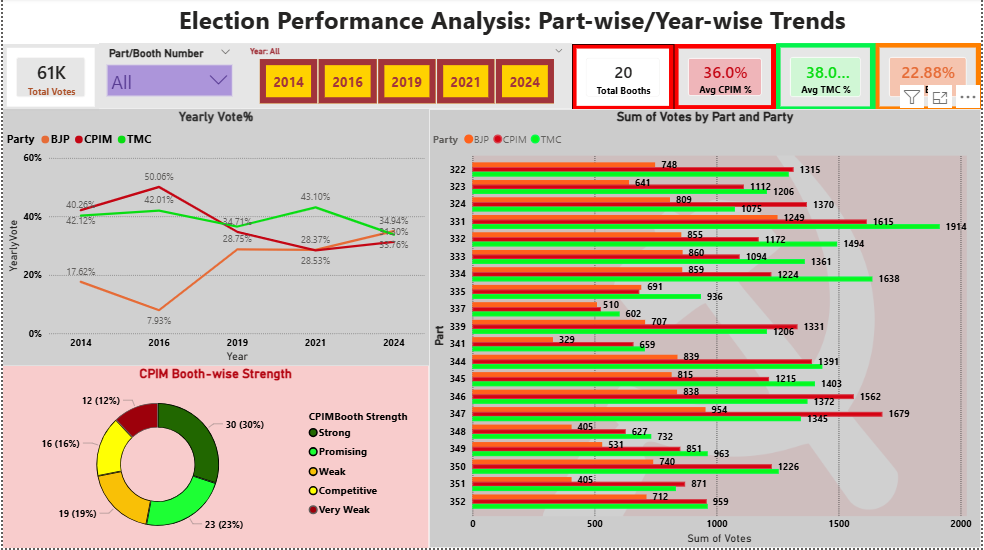

Layout of this report page (visuals, bound fields, positions):
{"tool":"powerbi","page":{"name":"Page 1","canvas":[1280,720],"ordinal":0},"visuals":[{"type":"cardVisual","fields":{"Data":["Sheet1.Total Votes"]},"box":[0,60.2,125.7,87.7],"z":0},{"type":"slicer","fields":{"Values":["Sheet1.Part"]},"box":[125.7,58.9,184.6,86.4],"z":1000},{"type":"lineChart","title":"Yearly Vote%","fields":{"Category":["Sheet1.Year"],"Series":["Sheet1.Party"],"Y":["Sheet1.Yearly Vote %"]},"box":[0,145.3,557.7,336.4],"z":2000},{"type":"cardVisual","fields":{"Data":["Sheet1.Avg CPIM %"]},"box":[878.4,60.2,133.5,86.4],"z":3000},{"type":"slicer","fields":{"Values":["Sheet1.Year"]},"box":[310.3,58.9,434.6,86.4],"z":4000},{"type":"cardVisual","fields":{"Data":["Sheet1.Avg BJP %"]},"box":[1141.5,58.9,138.8,89],"z":5000},{"type":"cardVisual","fields":{"Data":["Sheet1.Avg TMC %"]},"box":[1011.9,58.9,129.6,89],"z":6000},{"type":"textbox","box":[225.7,0,915.7,58.6],"z":7000},{"type":"cardVisual","fields":{"Data":["Sheet1.Total Booths"]},"box":[744.9,60.2,133.5,87.7],"z":8000},{"type":"donutChart","title":"CPIM Booth-wise Strength","fields":{"Category":["Sheet1.Booth Strength1"],"Y":["CountNonNull(Sheet1.Part)"]},"box":[0,481.4,557.1,238.6],"z":9000},{"type":"clusteredBarChart","fields":{"Category":["Sheet1.Part"],"Series":["Sheet1.Party"],"Y":["Sum(Sheet1.Votes)"]},"box":[557.7,145.3,722.6,574.7],"z":10000}]}

Visuals, with their boxes in screenshot pixels (x1, y1, x2, y2), scaled from the page's 1280x720 canvas onto the 984x550 screenshot:
cardVisual - Sheet1.Total Votes: pyautogui.locateOnScreen(0, 46, 97, 113)
slicer - Sheet1.Part: pyautogui.locateOnScreen(97, 45, 239, 111)
"Yearly Vote%" lineChart: pyautogui.locateOnScreen(0, 111, 429, 368)
cardVisual - Sheet1.Avg CPIM %: pyautogui.locateOnScreen(675, 46, 778, 112)
slicer - Sheet1.Year: pyautogui.locateOnScreen(239, 45, 573, 111)
cardVisual - Sheet1.Avg BJP %: pyautogui.locateOnScreen(878, 45, 983, 113)
cardVisual - Sheet1.Avg TMC %: pyautogui.locateOnScreen(778, 45, 878, 113)
textbox: pyautogui.locateOnScreen(174, 0, 877, 45)
cardVisual - Sheet1.Total Booths: pyautogui.locateOnScreen(573, 46, 675, 113)
"CPIM Booth-wise Strength" donutChart: pyautogui.locateOnScreen(0, 368, 428, 549)
clusteredBarChart - Sheet1.Part x Sheet1.Party: pyautogui.locateOnScreen(429, 111, 983, 549)
